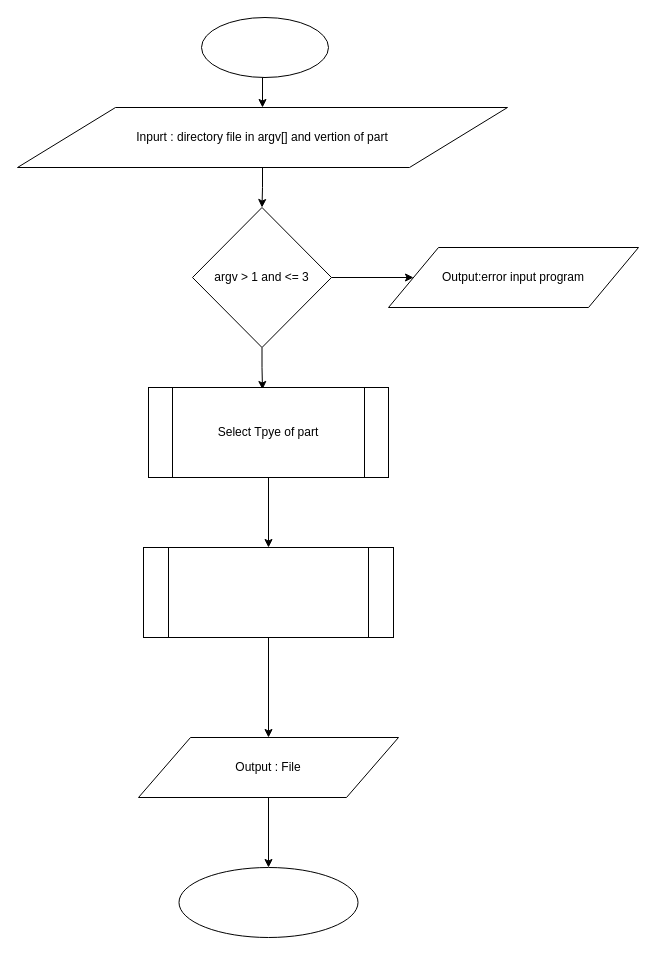
The diagram is 656 pixels wide and 955 high, and some of its shapes have lost their labels. The shapes that lost their labels are listed below. From the top down, each one's centre as x and y in pixels, then its label:
the point at 264,47: Start
the point at 268,592: CPK
the point at 268,902: Stop
